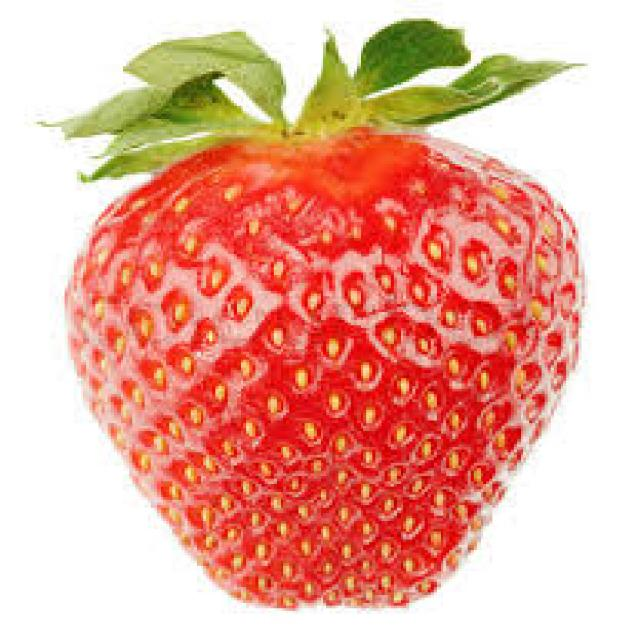organic waste: (34, 16, 581, 611)
